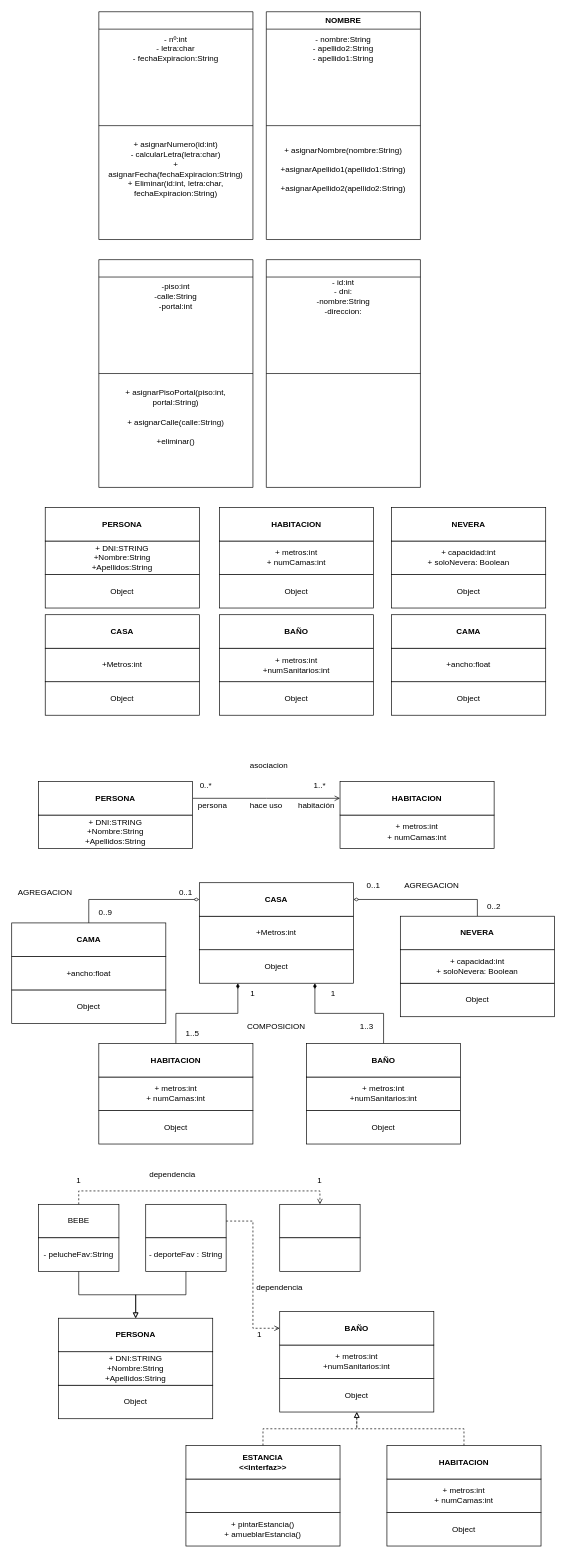
Image size: 566x1558. Some labels were removed from this diagram. Here are the shapes that lost their labels. From the top down, the box of each, then its label:
(98, 11, 253, 240): DNI
(98, 259, 253, 487): DIRECCION
(266, 259, 420, 487): USUARIO
(145, 1204, 226, 1238): ADOLESCENTE
(279, 1204, 360, 1238): CUNA
(279, 1237, 360, 1271): + movilEstrellas : boolean
